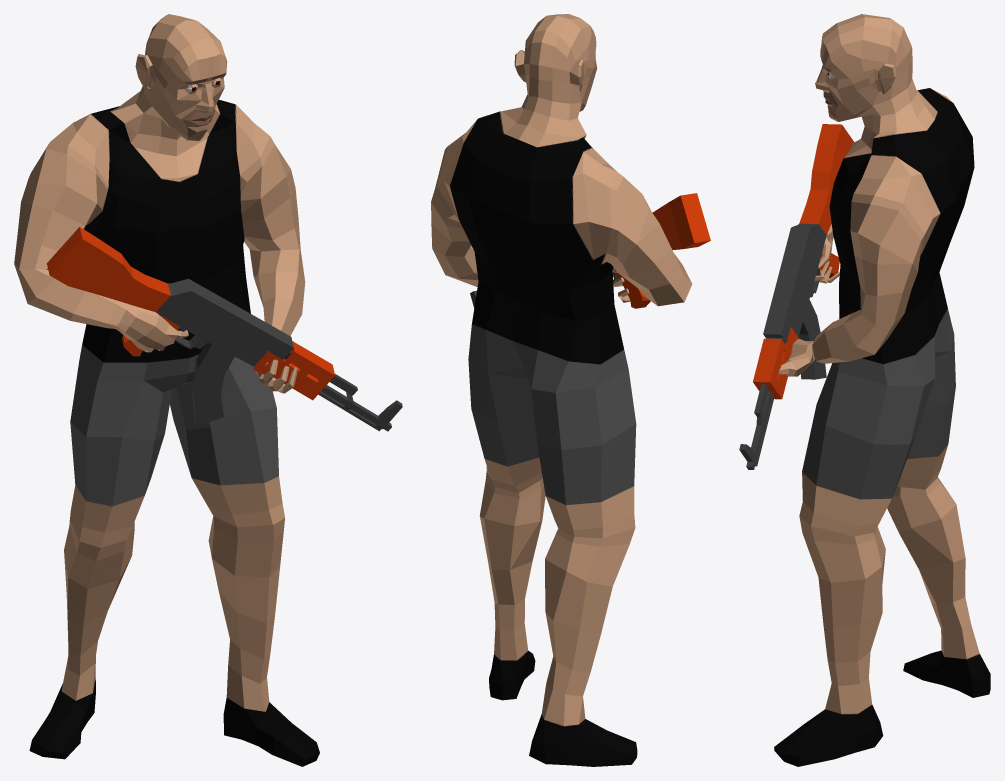
File: PlayerIdle(187).obj
3 views of the same model, side by side, from view 1: azimuth 30°, elevation 25°; view 2: azimuth 150°, elevation 25°; view 3: azimuth 270°, elevation 25° (orthographic). The views are drawn at different scales.
Visible parts, largest first — view 1: Plane002, Object001; view 2: Plane002, Object001; view 3: Plane002, Object001.
Boxes of the visible parts, <box> form: Plane002: <box>14,14,319,766</box>; Object001: <box>47,226,402,431</box>; Plane002: <box>431,14,692,766</box>; Object001: <box>470,193,710,308</box>; Plane002: <box>774,14,990,766</box>; Object001: <box>739,124,853,469</box>.
Size of the model in its own units: 783 by 1801 by 584.
